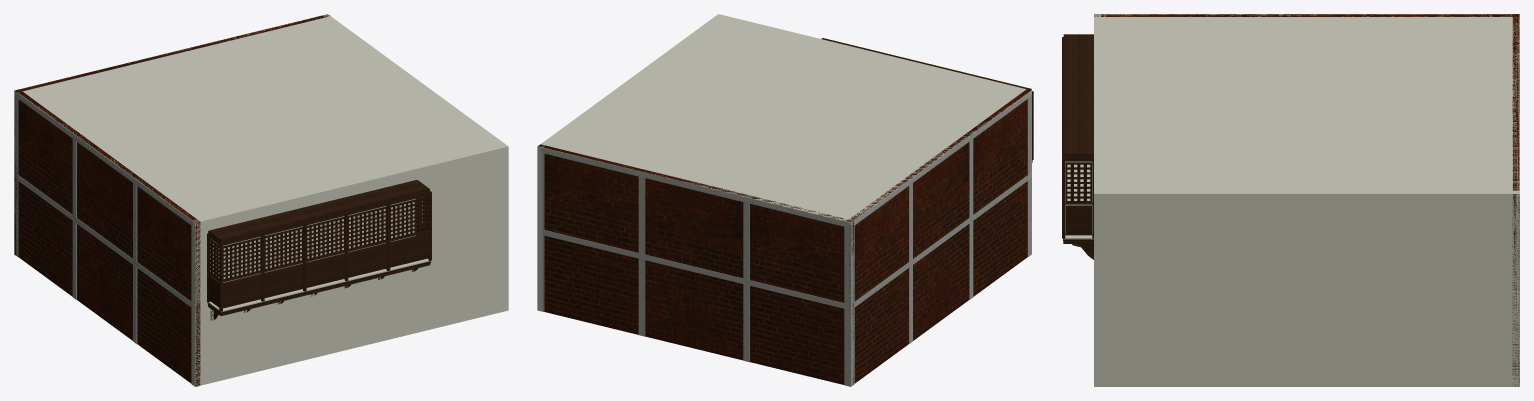
Rendered from building.glb.
3 renders of one model, left to right at view 1: azimuth 30°, elevation 25°; view 2: azimuth 150°, elevation 25°; view 3: azimuth 270°, elevation 25°, orthographic. The views are drawn at different scales.
Visible parts, largest first — view 1: roof/house:0/roof_slab#0001, house:0/edge0/z0/house:0/edge0/z0/wall_0_0, house:0/edge3/z0/house:0/edge3/z0/wall_0_0, balcony/sample/balcony_cover#0001, house:0/edge2/z0/house:0/edge2/z0/wall_0_0, balcony/sample/balcony_fretwork#0004, house:0/edge3/z0/house:0/edge3/z0/beam_0_0, balcony/sample/balcony_fretwork#0003, balcony/sample/balcony_fretwork#0002, house:0/edge3/z0/house:0/edge3/z0/beam_1_0, balcony/sample/balcony_fretwork#0006, balcony/sample/balcony_fretwork#0005 (+9 smaller); view 2: roof/house:0/roof_slab#0001, house:0/edge2/z0/house:0/edge2/z0/wall_0_0, house:0/edge3/z0/house:0/edge3/z0/wall_0_0, house:0/edge1/z0/house:0/edge1/z0/wall_0_0, house:0/edge2/z0/house:0/edge2/z0/beam_0_0, house:0/edge2/z0/house:0/edge2/z0/beam_1_0, house:0/edge3/z0/house:0/edge3/z0/beam_0_0, house:0/edge0/z0/house:0/edge0/z0/wall_0_0, house:0/edge3/z0/house:0/edge3/z0/beam_1_0, house:0/edge2/z0/house:0/edge2/z0/column_2_0, house:0/edge2/z0/house:0/edge2/z0/column_1_1, house:0/edge2/z0/house:0/edge2/z0/column_2_1 (+4 smaller); view 3: house:0/edge1/z0/house:0/edge1/z0/wall_0_0, roof/house:0/roof_slab#0001, balcony/sample/balcony_cover#0001, house:0/edge0/z0/house:0/edge0/z0/wall_0_0, house:0/edge2/z0/house:0/edge2/z0/wall_0_0, house:0/edge3/z0/house:0/edge3/z0/wall_0_0, balcony/sample/balcony_fretwork#0007, balcony/sample/balcony_panel#0007, balcony/sample/balcony_platform#0001.
Part boxes in pixels (x1,y1,x2,y2): roof/house:0/roof_slab#0001: (16, 15, 507, 225); house:0/edge0/z0/house:0/edge0/z0/wall_0_0: (192, 144, 508, 386); house:0/edge3/z0/house:0/edge3/z0/wall_0_0: (17, 89, 200, 386); balcony/sample/balcony_cover#0001: (208, 180, 429, 242); house:0/edge2/z0/house:0/edge2/z0/wall_0_0: (14, 14, 329, 255); balcony/sample/balcony_fretwork#0004: (306, 218, 345, 259); house:0/edge3/z0/house:0/edge3/z0/beam_0_0: (14, 173, 195, 309); balcony/sample/balcony_fretwork#0003: (264, 228, 303, 269); balcony/sample/balcony_fretwork#0002: (223, 238, 261, 279); house:0/edge3/z0/house:0/edge3/z0/beam_1_0: (14, 91, 195, 228); balcony/sample/balcony_fretwork#0006: (390, 198, 428, 238); balcony/sample/balcony_fretwork#0005: (348, 208, 386, 249); roof/house:0/roof_slab#0001: (540, 14, 1031, 225); house:0/edge2/z0/house:0/edge2/z0/wall_0_0: (538, 144, 853, 384); house:0/edge3/z0/house:0/edge3/z0/wall_0_0: (846, 89, 1030, 383); house:0/edge1/z0/house:0/edge1/z0/wall_0_0: (537, 14, 721, 311); house:0/edge2/z0/house:0/edge2/z0/beam_0_0: (542, 230, 851, 310); house:0/edge2/z0/house:0/edge2/z0/beam_1_0: (538, 146, 851, 228); house:0/edge3/z0/house:0/edge3/z0/beam_0_0: (850, 172, 1031, 309); house:0/edge0/z0/house:0/edge0/z0/wall_0_0: (716, 14, 1031, 253); house:0/edge3/z0/house:0/edge3/z0/beam_1_0: (850, 90, 1031, 227); house:0/edge2/z0/house:0/edge2/z0/column_2_0: (638, 177, 645, 254); house:0/edge2/z0/house:0/edge2/z0/column_1_1: (844, 227, 851, 304); house:0/edge2/z0/house:0/edge2/z0/column_2_1: (638, 259, 645, 336); house:0/edge1/z0/house:0/edge1/z0/wall_0_0: (1094, 191, 1519, 386); roof/house:0/roof_slab#0001: (1094, 14, 1519, 198); balcony/sample/balcony_cover#0001: (1063, 34, 1093, 157); house:0/edge0/z0/house:0/edge0/z0/wall_0_0: (1094, 14, 1100, 386); house:0/edge2/z0/house:0/edge2/z0/wall_0_0: (1512, 14, 1519, 386); house:0/edge3/z0/house:0/edge3/z0/wall_0_0: (1094, 14, 1519, 16); balcony/sample/balcony_fretwork#0007: (1065, 163, 1091, 202); balcony/sample/balcony_panel#0007: (1065, 205, 1091, 235); balcony/sample/balcony_platform#0001: (1064, 161, 1093, 239).
Bounding box in the file's own units: 12 × 6 × 12.89.
4 materials, 2 textured.
